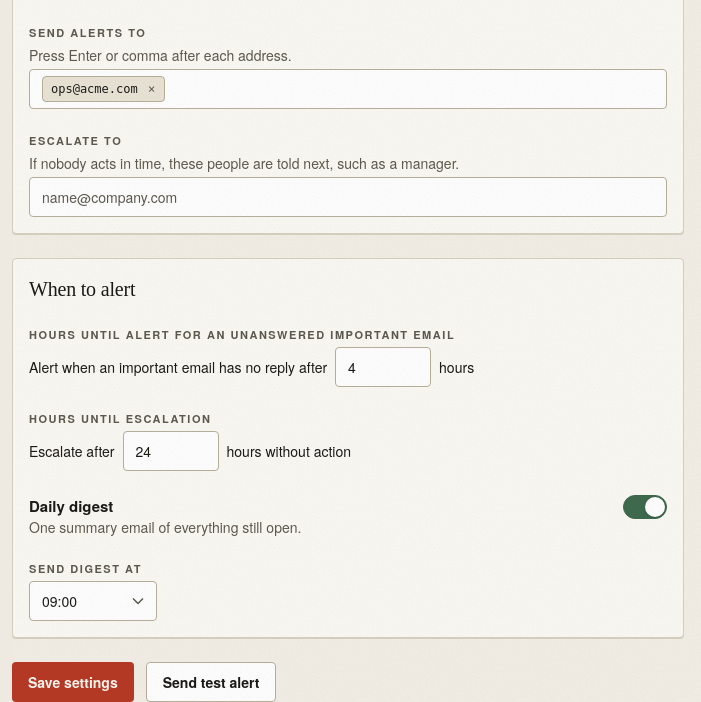
Scenario: AlertSettingsPanel › sends a test alert and shows who received it
(page scrolled)
Click the button "Send test alert": (211, 682) [146,662,276,701]
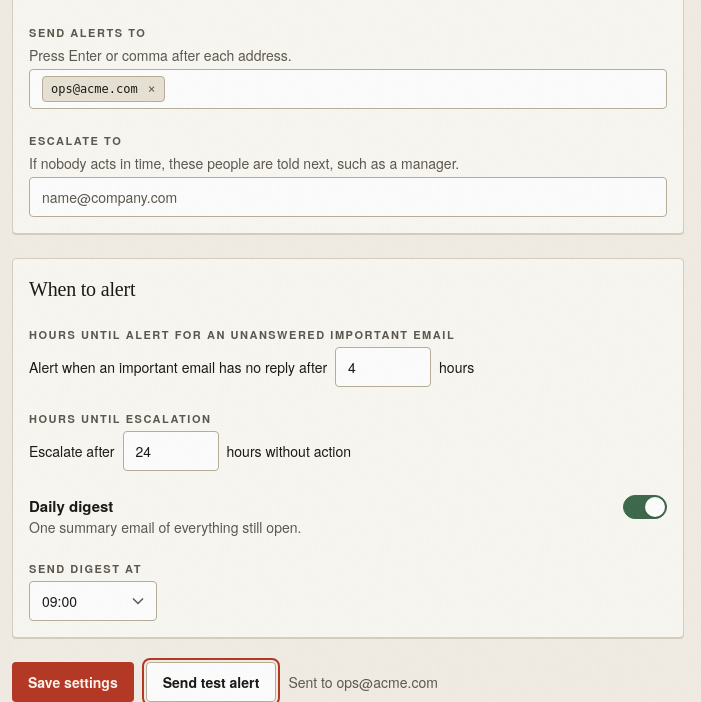
Now the text "Sent to ops@acme.com" is shown, box [288,672,438,692]
